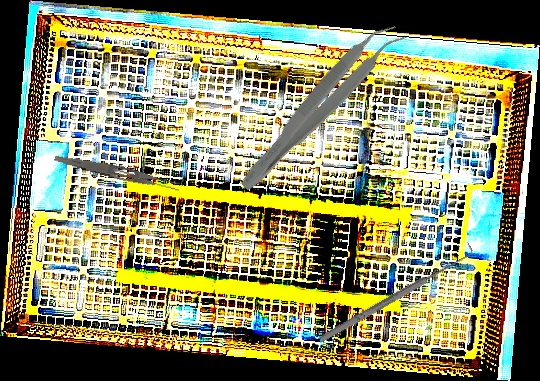Dressing Forceps: (52, 152, 182, 194)
Hook Surgical: (314, 241, 477, 346)
Tissue Forceps: (233, 13, 409, 203)
